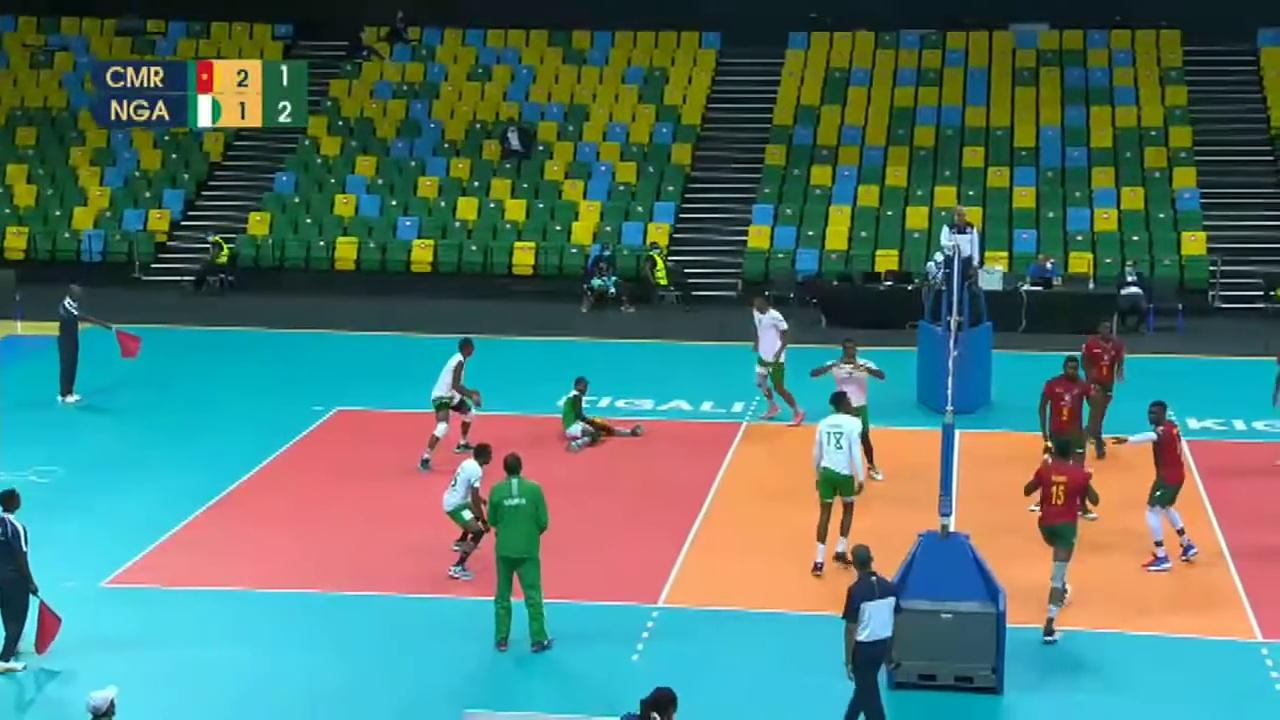player: (1023, 426, 1105, 644), (1109, 397, 1205, 575), (808, 386, 885, 582), (811, 326, 901, 478), (1027, 349, 1102, 521), (418, 341, 482, 471), (550, 368, 644, 451), (1080, 324, 1128, 457), (442, 447, 490, 577), (748, 294, 796, 419)
refree: (834, 539, 908, 720), (56, 280, 136, 408), (1, 491, 50, 674), (941, 206, 990, 318)
